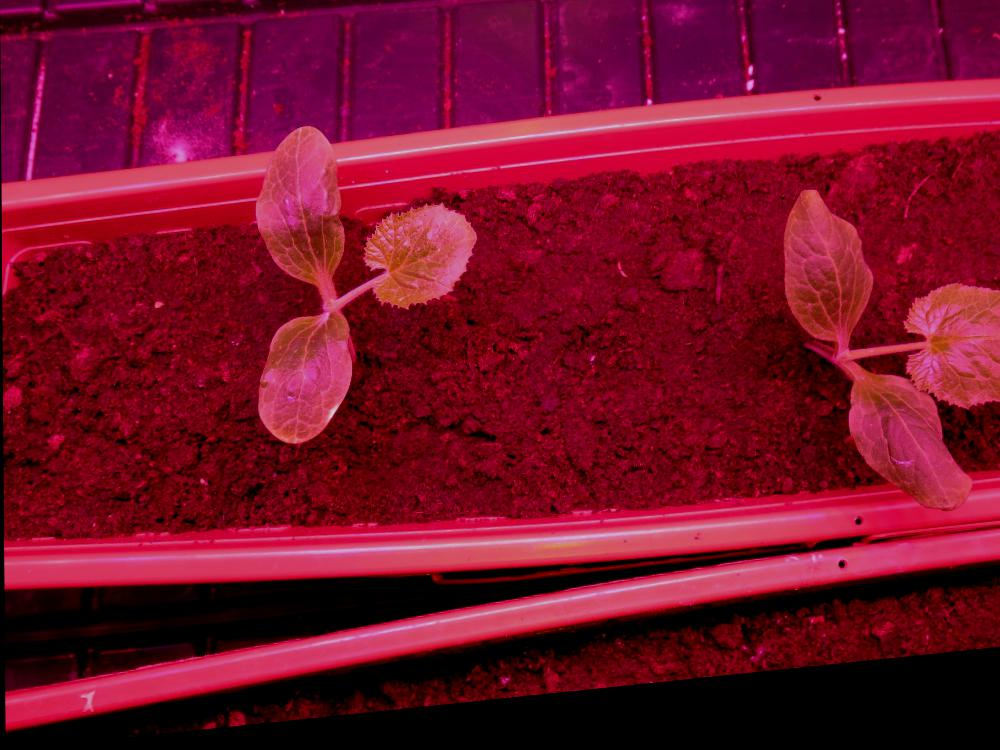crop: (251, 106, 477, 457)
weed: (614, 270, 627, 294)
